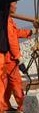boots: (0, 109, 10, 113), (0, 109, 9, 113)
gloves: (0, 21, 6, 34), (32, 19, 39, 28)
hard-hat: (0, 0, 15, 6)
ppe-suit: (0, 4, 20, 113)
